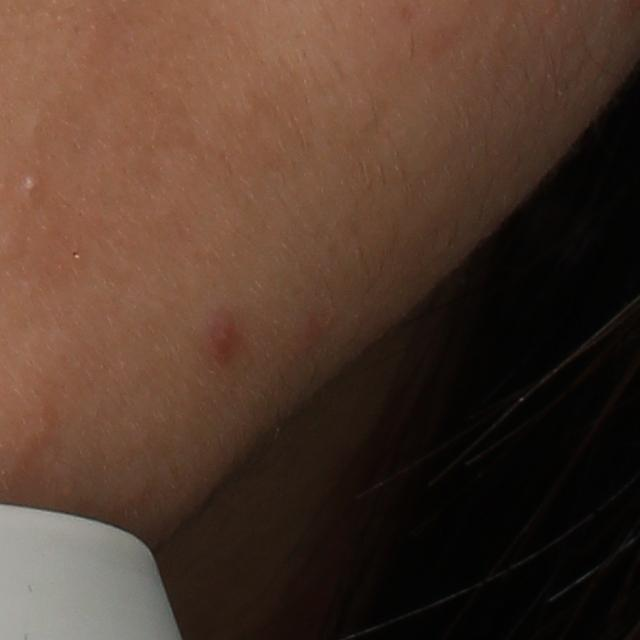comedo: (19, 172, 44, 197)
papule: (211, 316, 238, 356)
